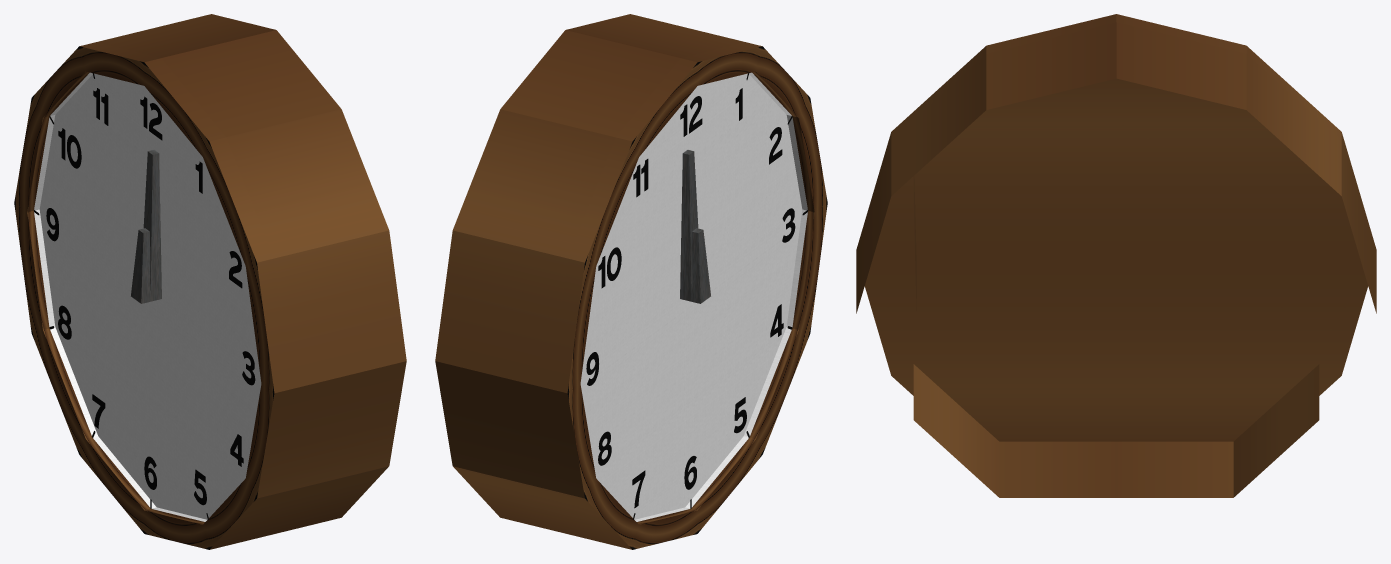
File: Clock.glb
The picture shows the model from 3 angles, left to right: view 1: azimuth 30°, elevation 25°; view 2: azimuth 150°, elevation 25°; view 3: azimuth 270°, elevation 25°; orthographic projection.
Visible parts, largest first — view 1: Clock, ClockBack, MinuteHand, HourHand; view 2: Clock, ClockBack, MinuteHand, HourHand; view 3: Clock, ClockBack.
Part boxes in pixels (box(x1,y1,x2,y2)): Clock: box(14, 42, 291, 549); ClockBack: box(96, 14, 406, 545); MinuteHand: box(143, 150, 161, 301); HourHand: box(131, 228, 150, 303); Clock: box(550, 42, 827, 549); ClockBack: box(435, 14, 745, 545); MinuteHand: box(680, 150, 698, 301); HourHand: box(691, 228, 710, 303); Clock: box(856, 14, 1376, 441); ClockBack: box(856, 22, 1376, 497).
Bounding box in the file's own units: 0.2209 × 0.7084 × 0.7084.
3 materials, 3 textured.
